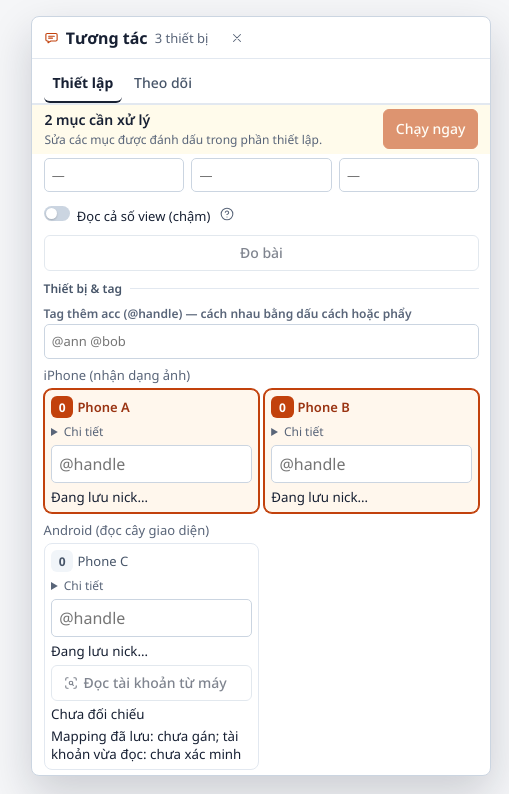
Scenario: saves a normalized handle by UDID without rewriting device metadata
(page scrolled)
Step 1. Type " @new.account " into the field named "Tài khoản TikTok của Phone A" → [151, 464], box [51, 445, 252, 483]
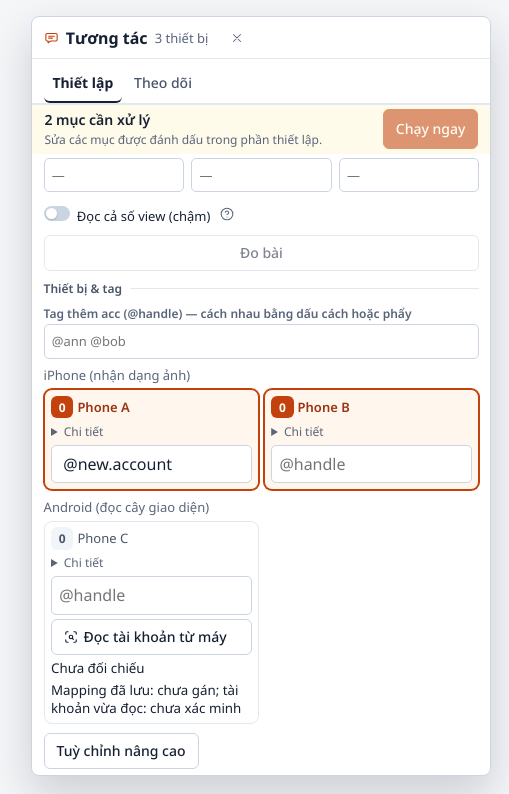
Step 2. Leave the field named "Tài khoản TikTok của Phone A", box [51, 445, 252, 483]
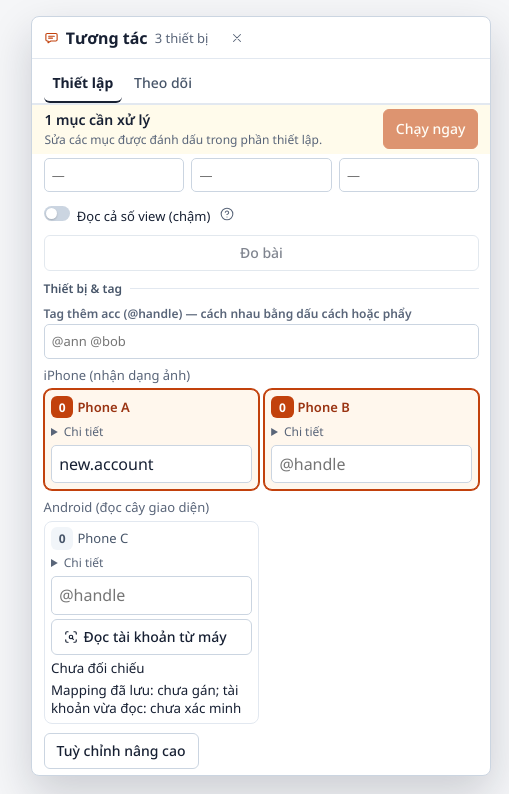
Expected: the field named "Tài khoản TikTok của Phone A" holds "new.account", [51, 445, 252, 483]
